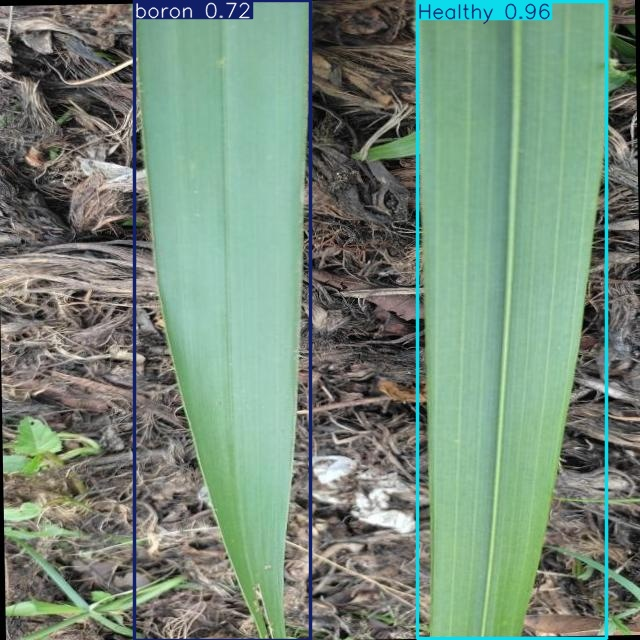Healthy: (418, 1, 607, 639)
nitrogen: (135, 1, 310, 640)
